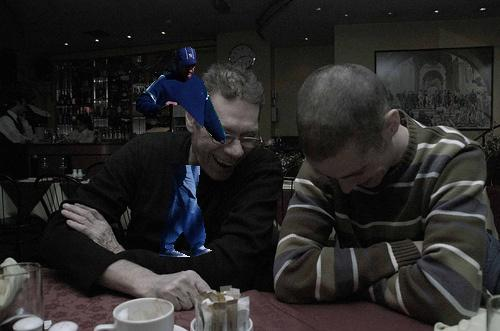tampered: (137, 48, 226, 257)
